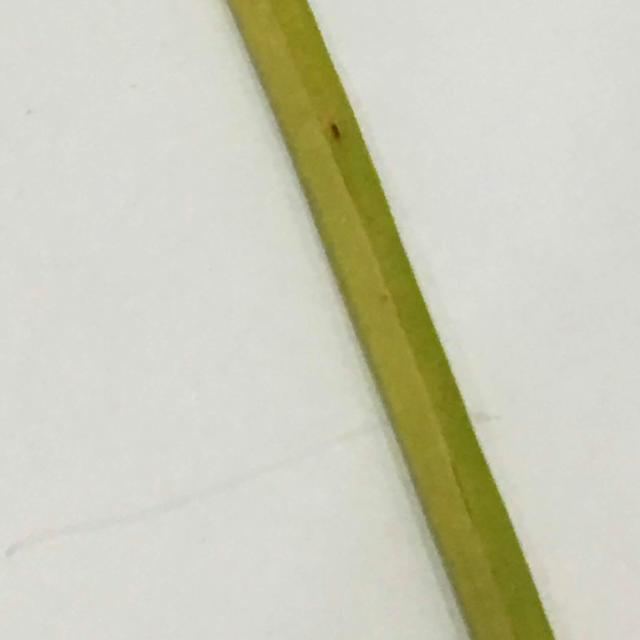brownspots: (322, 115, 351, 148)
